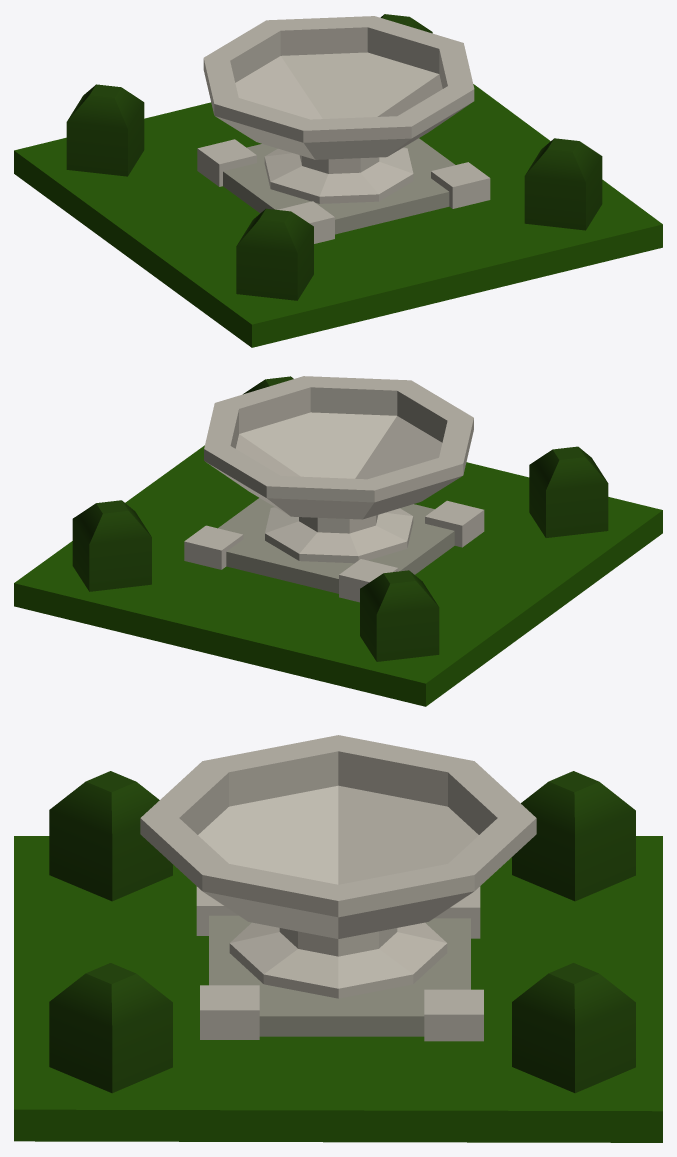
File: park_brazier.fbx
The picture shows the model from 3 angles, top to bottom: view 1: azimuth 30°, elevation 25°; view 2: azimuth 150°, elevation 25°; view 3: azimuth 270°, elevation 25°; orthographic projection. The views are drawn at different scales.
Visible parts, largest first — view 1: tree:tree:treetemp:treetemp:polySurface1488; view 2: tree:tree:treetemp:treetemp:polySurface1488; view 3: tree:tree:treetemp:treetemp:polySurface1488.
Part boxes in pixels (left/top/right/bottom): tree:tree:treetemp:treetemp:polySurface1488: left=14, top=14, right=662, bottom=347; tree:tree:treetemp:treetemp:polySurface1488: left=14, top=376, right=662, bottom=706; tree:tree:treetemp:treetemp:polySurface1488: left=14, top=735, right=662, bottom=1142.
Size of the model in its own units: 100 by 32.68 by 100.
Materials: 1 (1 with a texture image).
